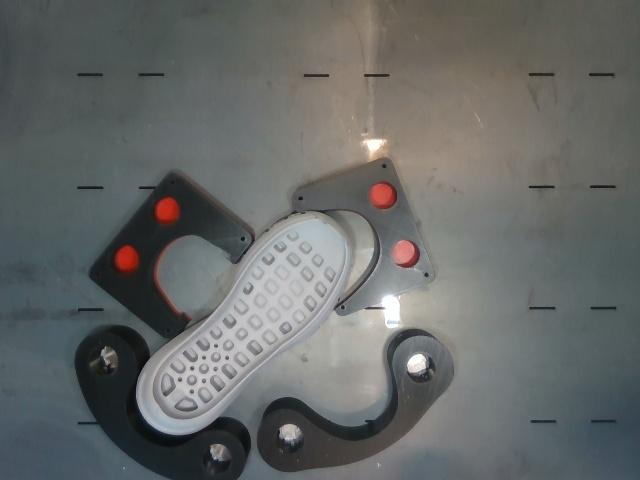shoes: (153, 221, 345, 420)
